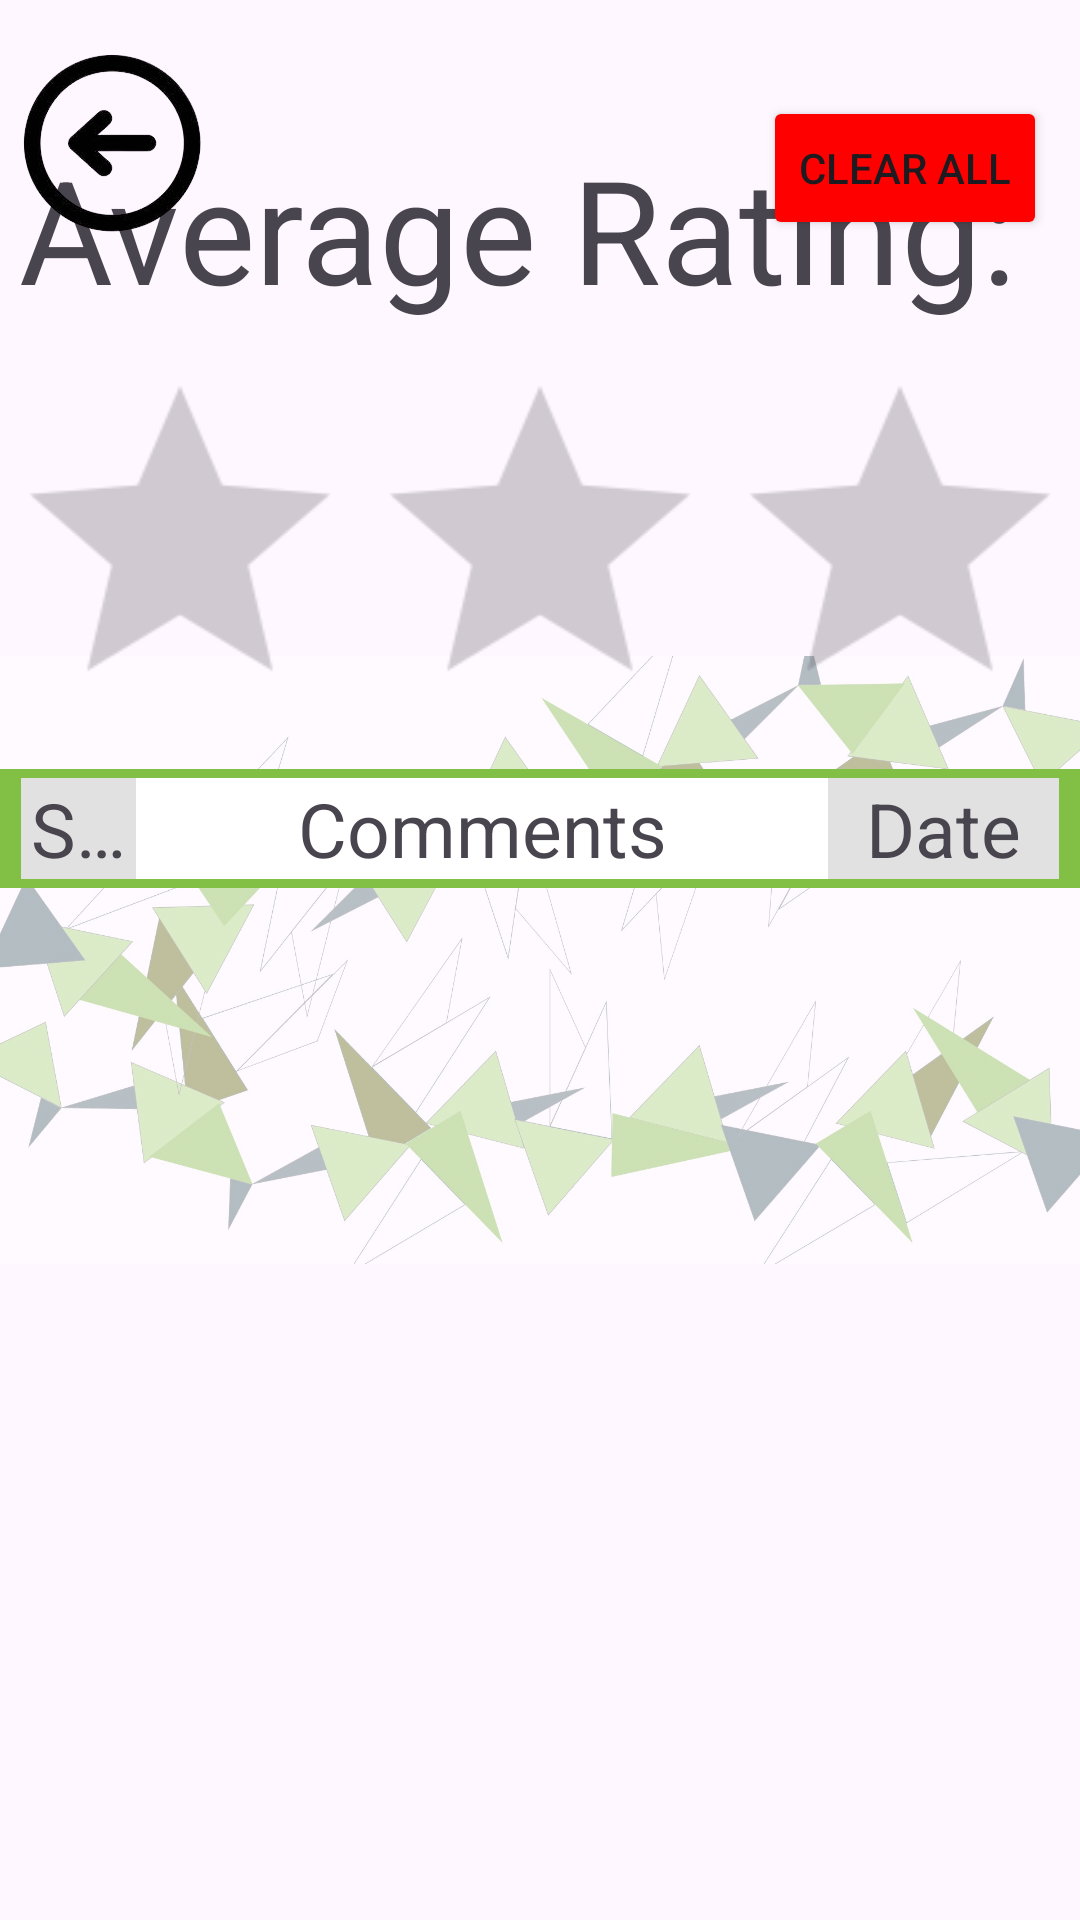

Point at icon controls on the screen. Image size 1080 x 1920, points as [x,y].
back: [129,144]
